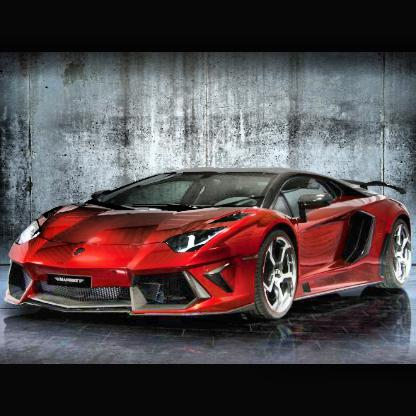Lamborghini Aventador Coupe 2012: (2, 172, 416, 356)
